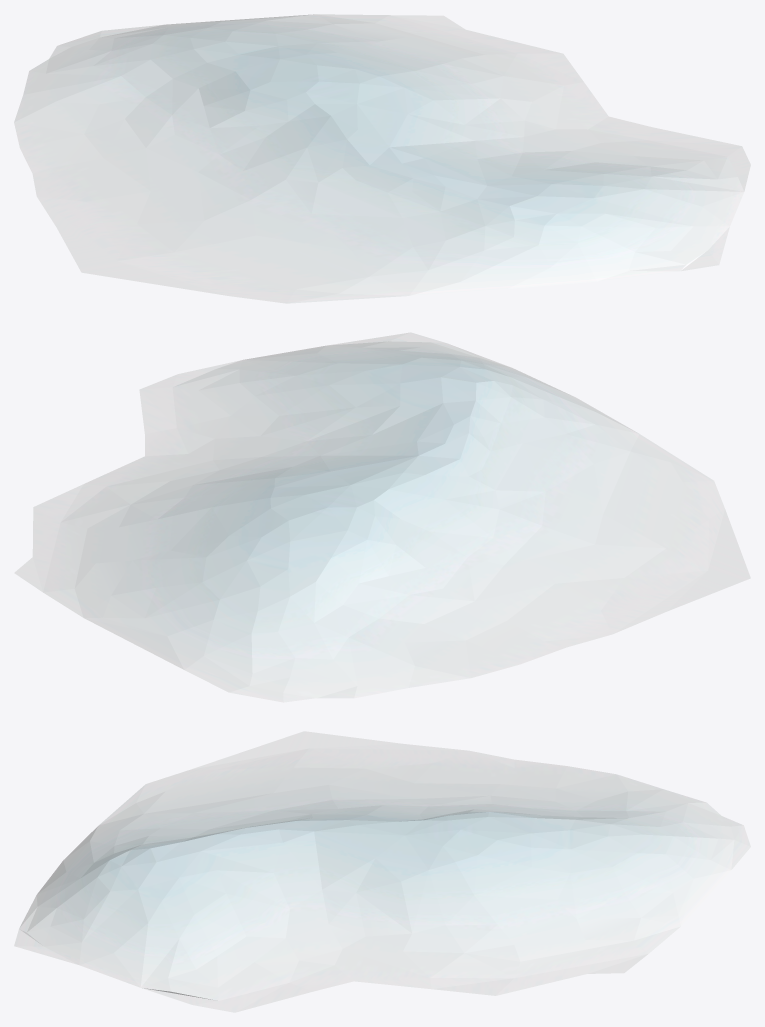
3 views of the same model, one above another, from view 1: azimuth 30°, elevation 25°; view 2: azimuth 150°, elevation 25°; view 3: azimuth 270°, elevation 25° (orthographic). The views are drawn at different scales.
Parts seen in each view (by area): view 1: SnowyHillFlat; view 2: SnowyHillFlat; view 3: SnowyHillFlat.
Part boxes in pixels (x1,y1,x2,y2): SnowyHillFlat: (14,14,750,303); SnowyHillFlat: (14,332,750,702); SnowyHillFlat: (14,731,750,1012).
Size of the model in its own units: 161 by 12.61 by 177.
1 material, 1 textured.
